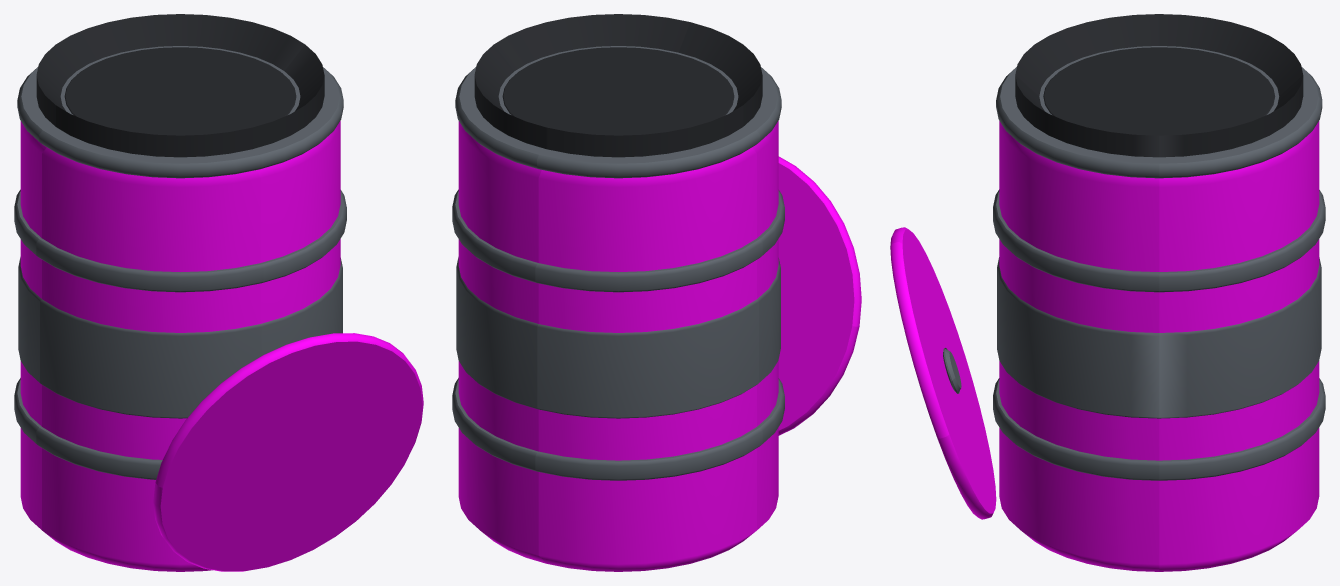
File: objet_baril_vide.glb
3 renders of one model, left to right at view 1: azimuth 30°, elevation 25°; view 2: azimuth 150°, elevation 25°; view 3: azimuth 270°, elevation 25°, orthographic.
Visible parts, largest first — view 1: baril_teinte.008, baril_acier_doux_sombre.008, baril_symbole_noir.006; view 2: baril_teinte.008, baril_acier_doux_sombre.008, baril_symbole_noir.006; view 3: baril_teinte.008, baril_acier_doux_sombre.008, baril_symbole_noir.006.
Part boxes in pixels (x1,y1,x2,y2): baril_teinte.008: (20,121,423,571); baril_acier_doux_sombre.008: (14,46,346,479); baril_symbole_noir.006: (36,14,324,157); baril_teinte.008: (458,121,861,571); baril_acier_doux_sombre.008: (452,46,784,480); baril_symbole_noir.006: (474,14,762,157); baril_teinte.008: (890,121,1319,571); baril_acier_doux_sombre.008: (943,46,1325,480); baril_symbole_noir.006: (1015,14,1303,157).
Bounding box in the file's own units: 0.208 × 0.301 × 0.2721.
